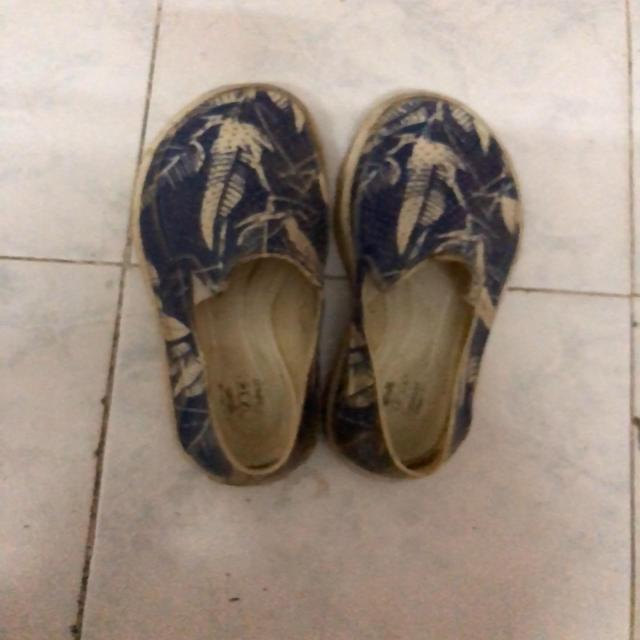shoe: (136, 86, 330, 479), (334, 90, 522, 472)
